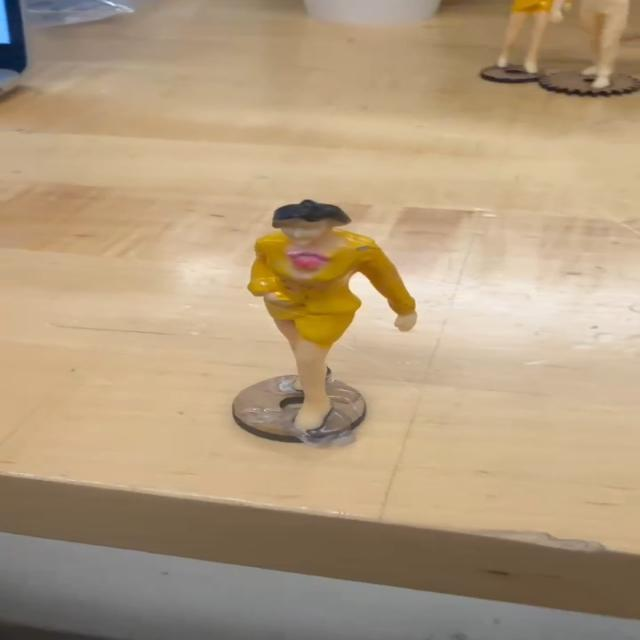Authorized: (237, 197, 431, 440)
